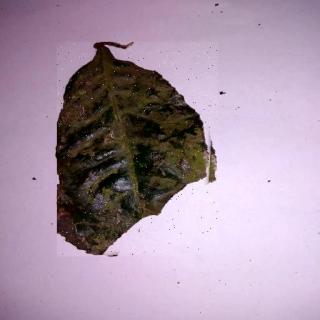Anthracnose: (58, 43, 219, 258)
